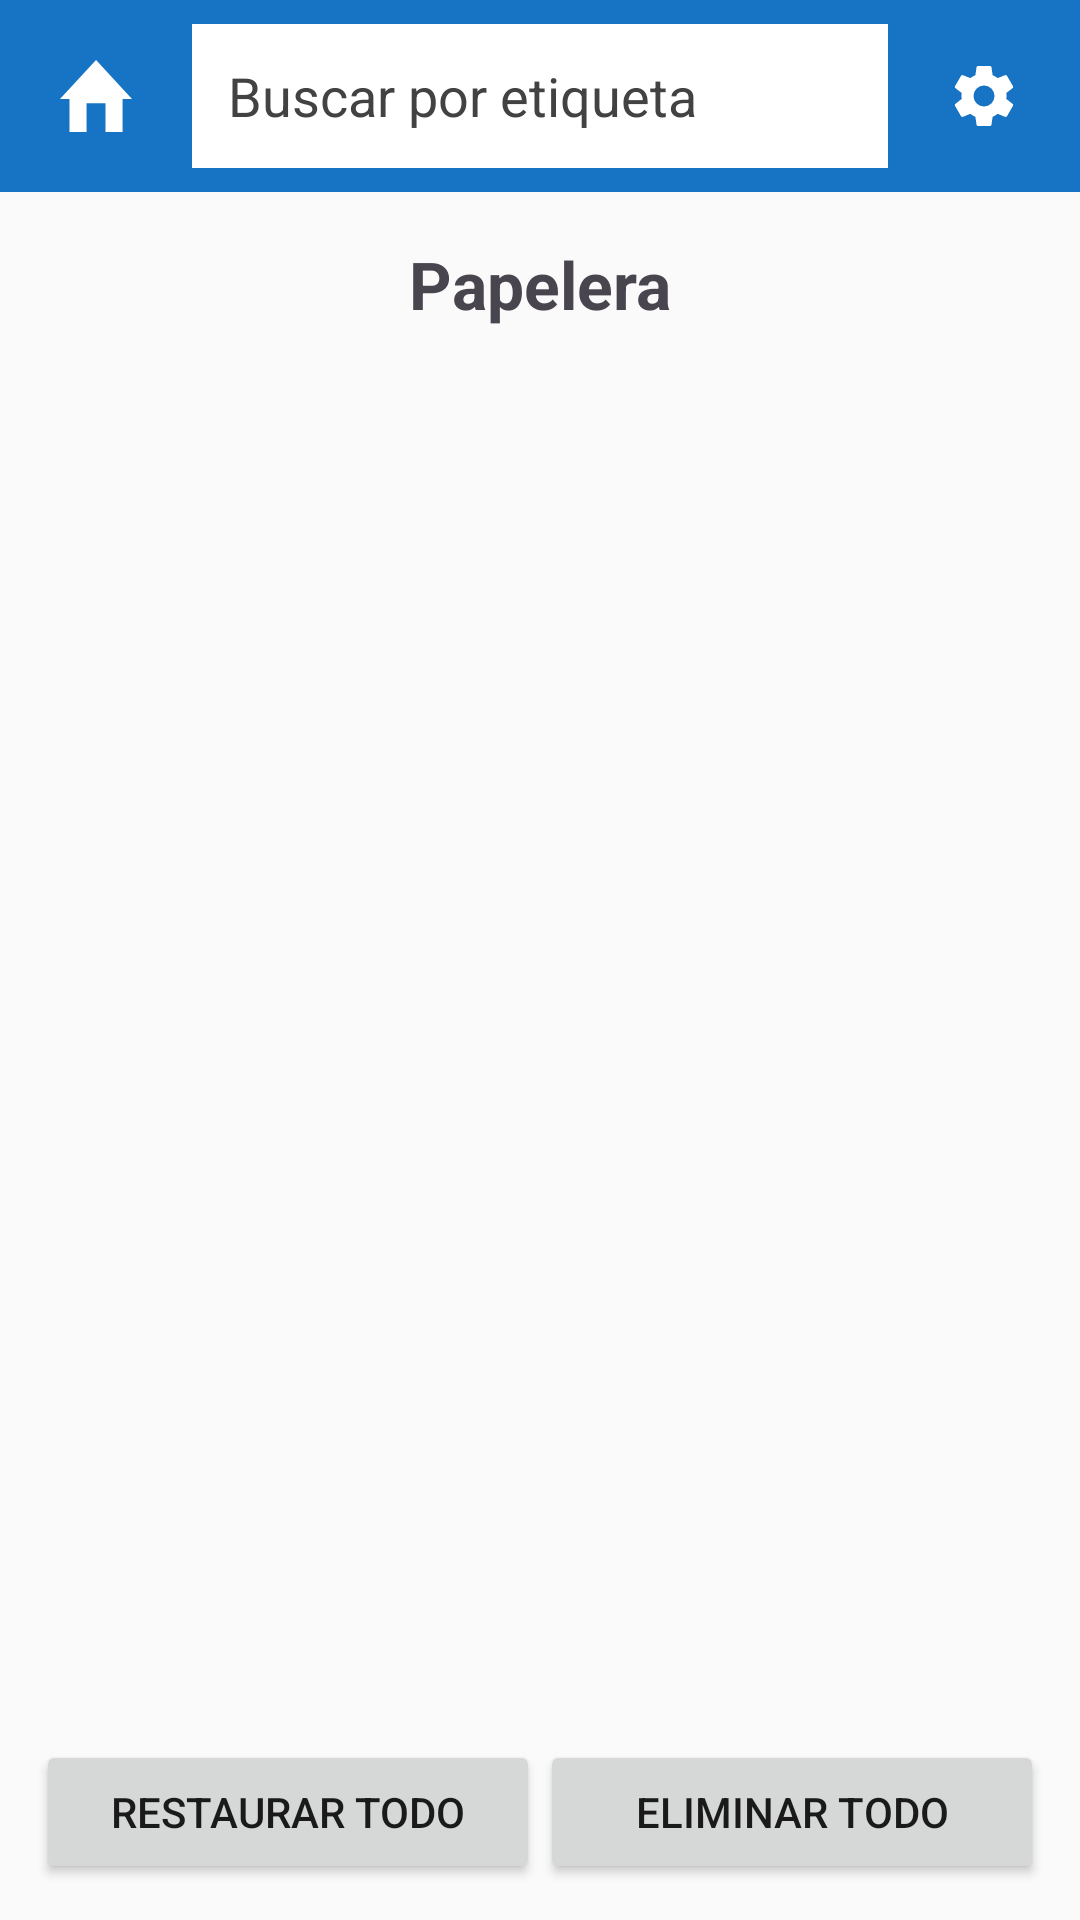

Named icons in this screenshot (1080 × 1920) and their bounding boxes, BBox(x1, y1, x2, y2):
Ajustes: BBox(954, 66, 1013, 126)
Inicio: BBox(60, 60, 132, 132)
